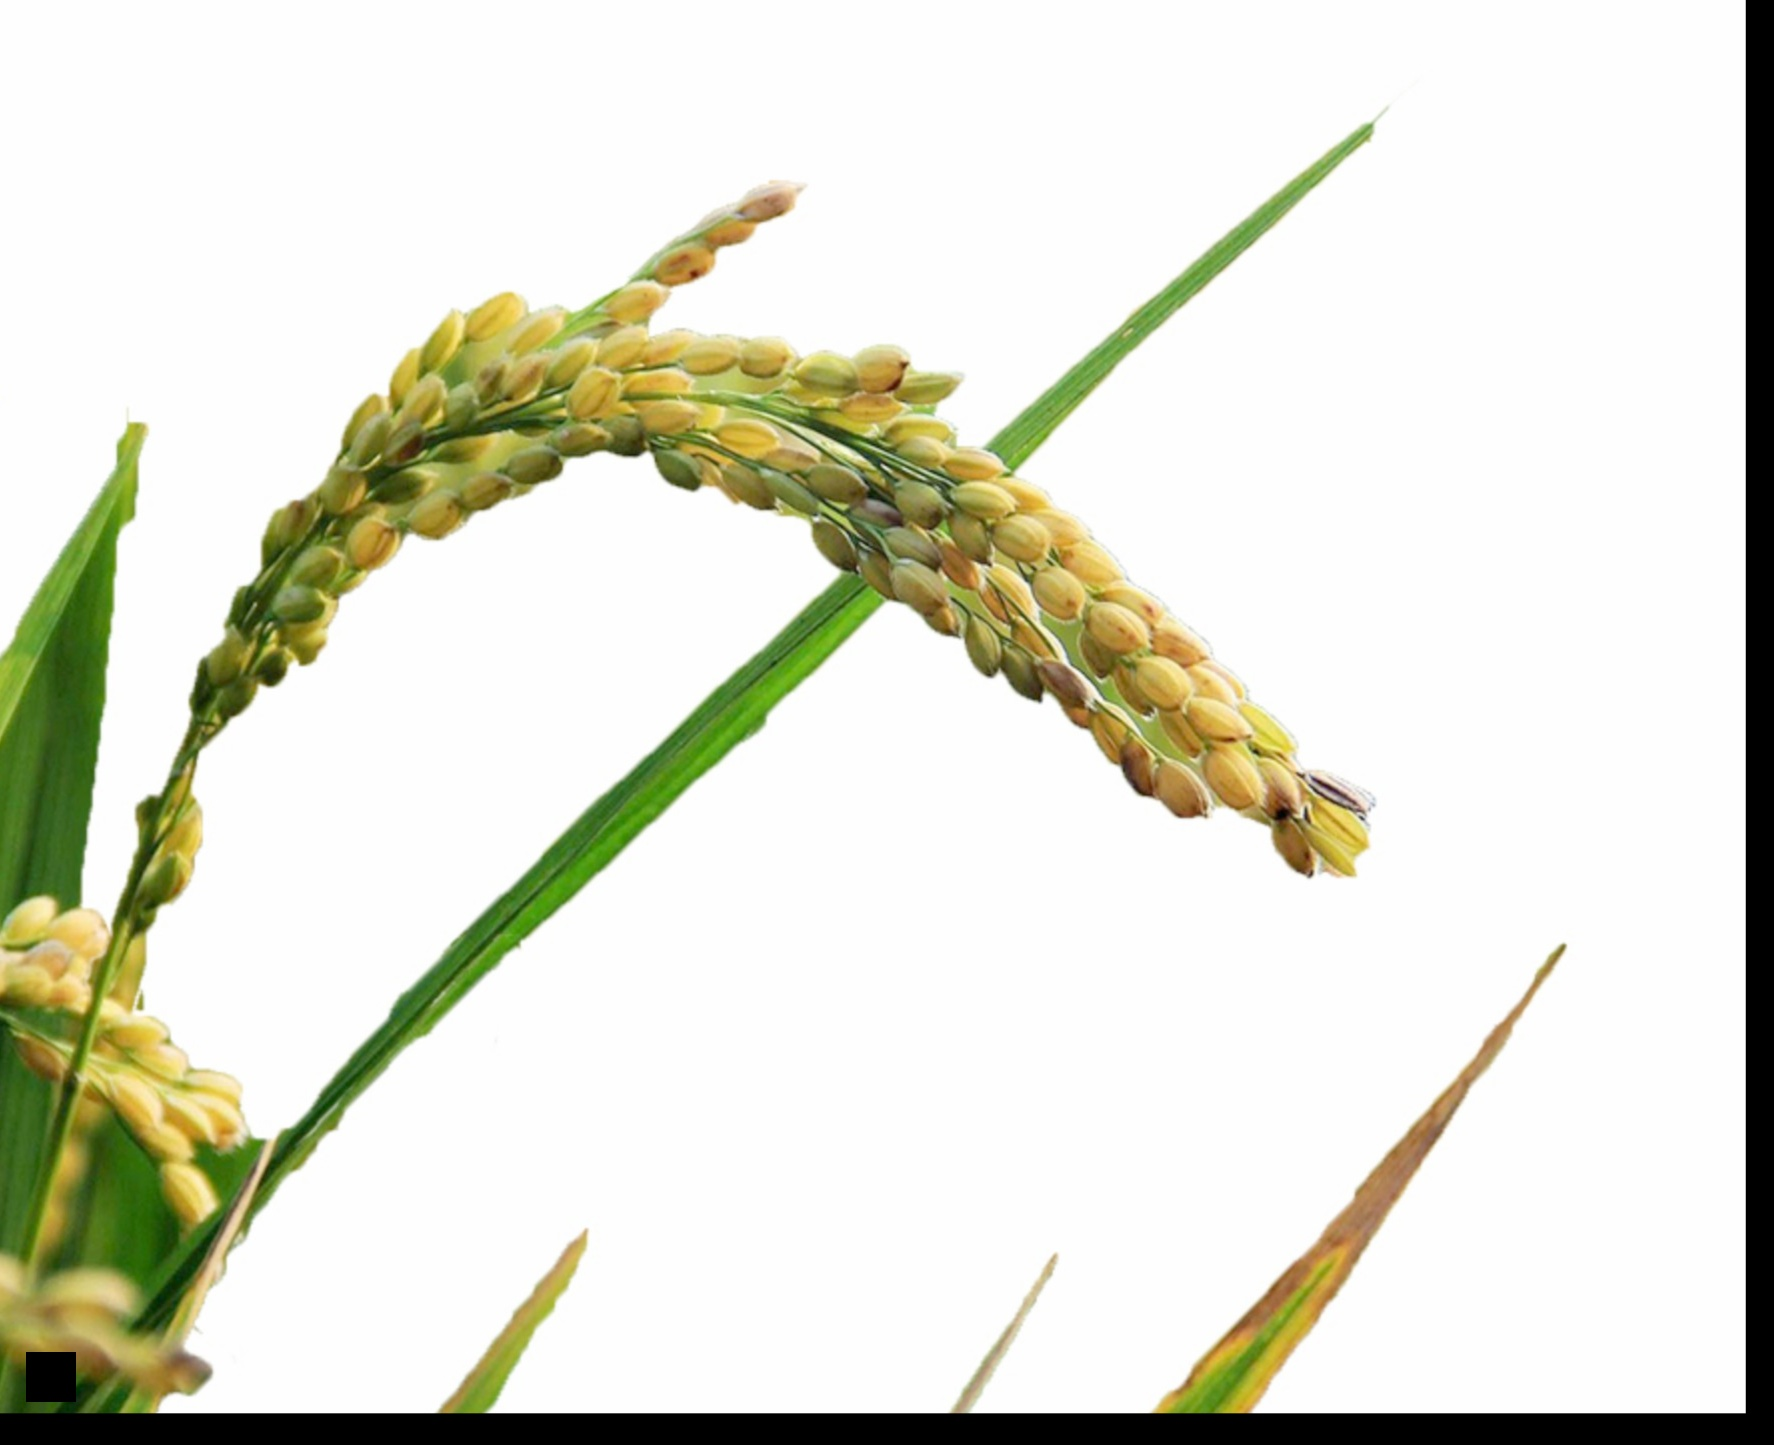rice: (94, 133, 1403, 990)
